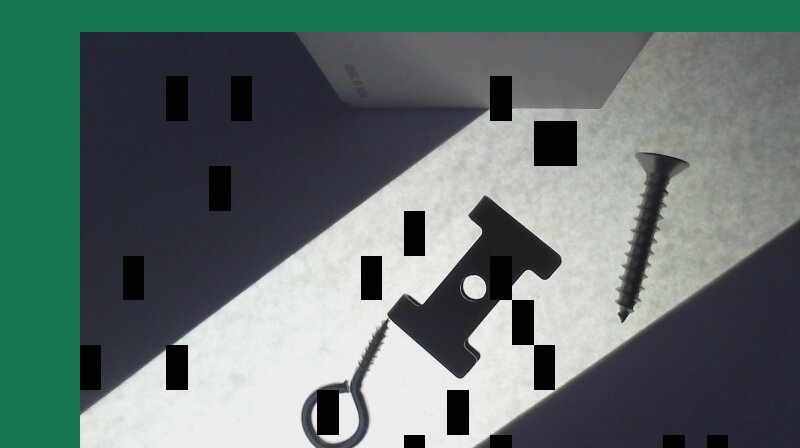O001: (299, 315, 389, 447)
O002: (388, 195, 560, 377)
S001: (613, 151, 690, 323)
